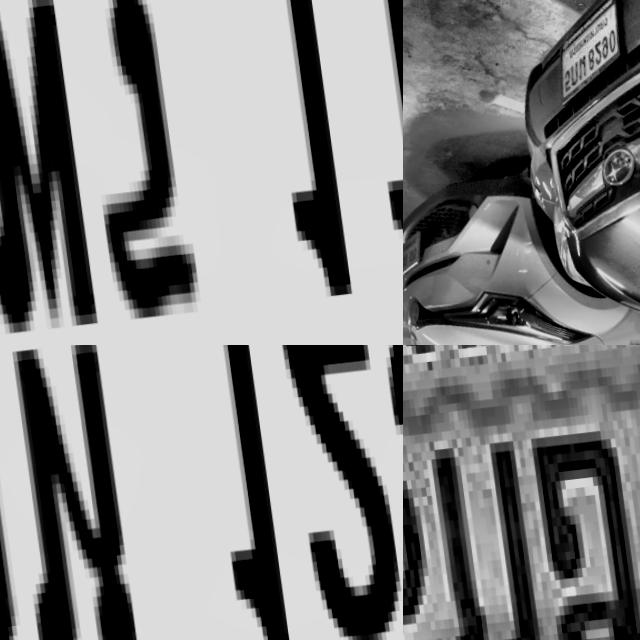license-plate: (0, 0, 403, 345), (0, 345, 403, 640), (403, 345, 640, 640), (544, 0, 629, 104), (403, 225, 426, 277)
